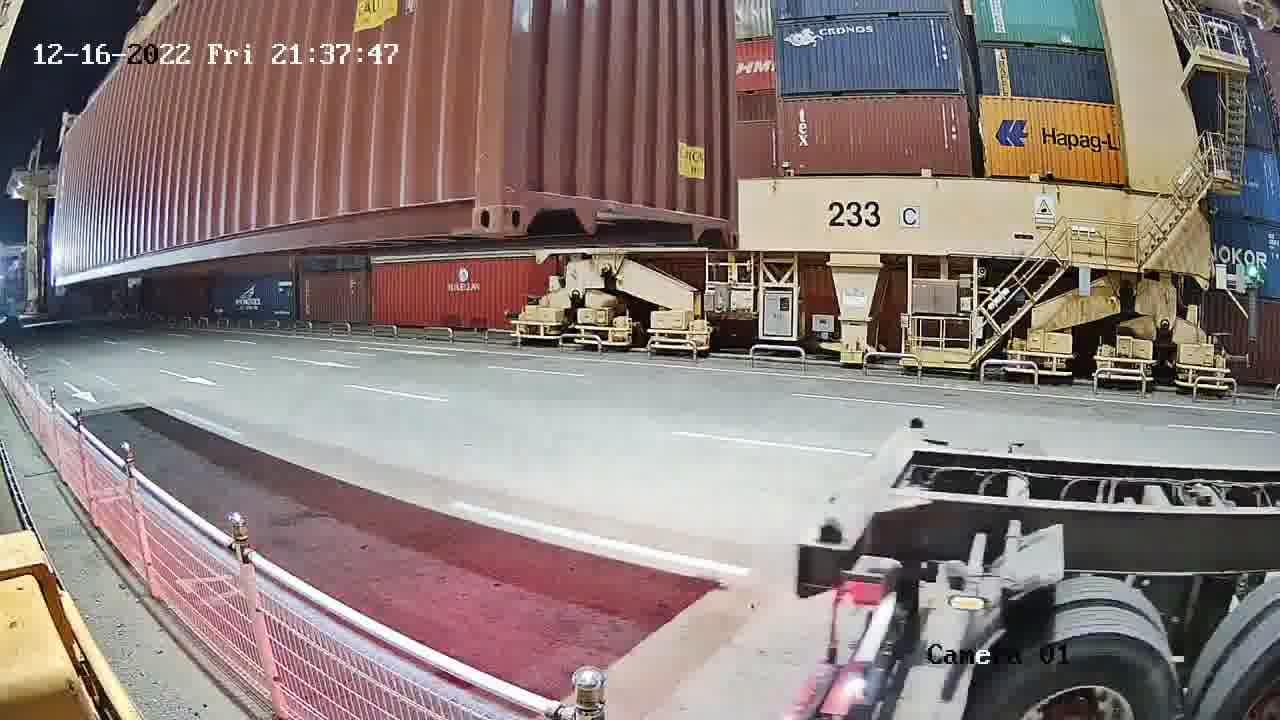Hole_L: (501, 164, 553, 235)
Hole_R: (443, 162, 504, 236), (706, 193, 742, 249)
